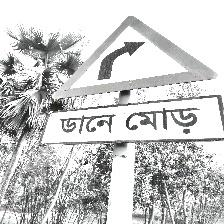Right-turn: (46, 14, 223, 143)
